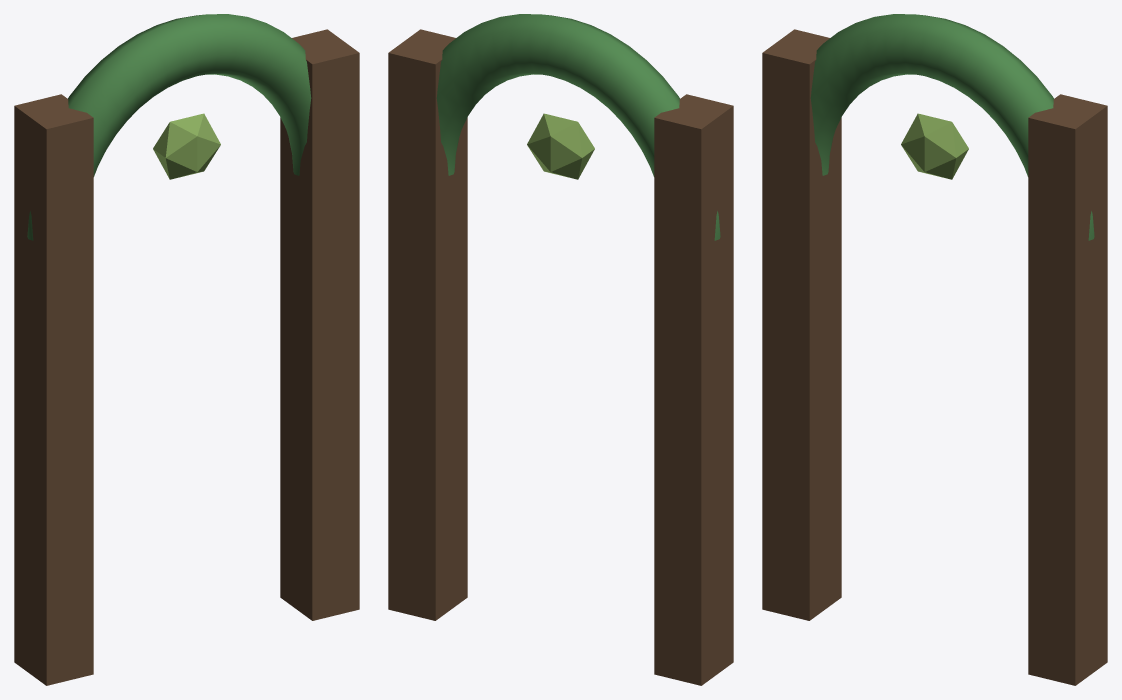
File: ivy_relief_wall.glb
The picture shows the model from 3 angles, left to right: view 1: azimuth 30°, elevation 25°; view 2: azimuth 150°, elevation 25°; view 3: azimuth 330°, elevation 25°; orthographic projection.
Visible parts, largest first — view 1: pillar_-1, pillar_1, arch, keystone; view 2: pillar_-1, pillar_1, arch, keystone; view 3: pillar_1, pillar_-1, arch, keystone.
Boxes of the visible parts, box(x1,y1,x2,y2) form: pillar_-1: box(14, 94, 93, 685); pillar_1: box(280, 29, 359, 620); arch: box(27, 14, 311, 240); keystone: box(153, 113, 220, 179); pillar_-1: box(654, 94, 733, 685); pillar_1: box(388, 29, 467, 620); arch: box(436, 14, 720, 240); keystone: box(527, 113, 594, 179); pillar_1: box(1028, 94, 1107, 685); pillar_-1: box(762, 29, 841, 620); arch: box(810, 14, 1094, 240); keystone: box(901, 113, 968, 179).
Size of what is drawn, in the model's own units: 3.7 by 6.88 by 0.65.
